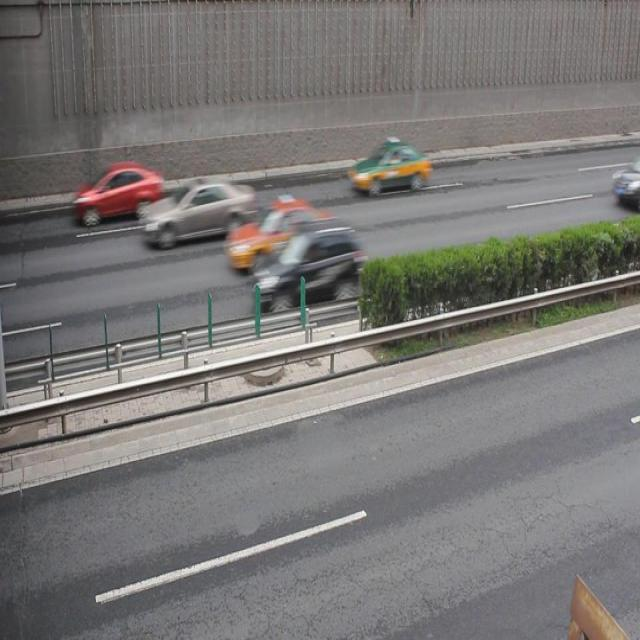car: (249, 222, 361, 312), (140, 175, 255, 248), (225, 195, 330, 268), (73, 160, 164, 224), (346, 138, 431, 195)
